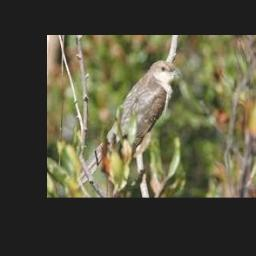Cuckoo: (73, 60, 182, 189)
